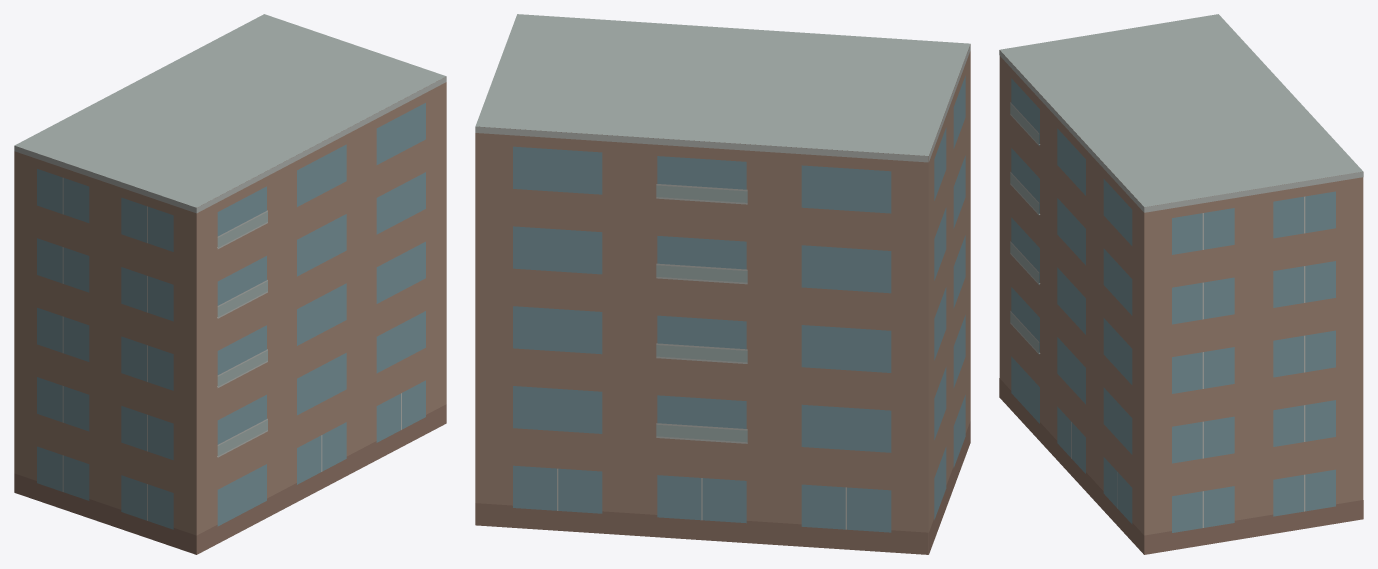
Rendered from survey-upis-32844772.glb.
3 views of the same model, side by side, from view 1: azimuth 30°, elevation 25°; view 2: azimuth 150°, elevation 25°; view 3: azimuth 270°, elevation 25° (orthographic). The views are drawn at different scales.
Visible parts, largest first — view 1: survey-upis-32844772.tmp; view 2: survey-upis-32844772.tmp; view 3: survey-upis-32844772.tmp.
Part boxes in pixels (<box>): survey-upis-32844772.tmp: <box>14,14,446,554</box>; survey-upis-32844772.tmp: <box>475,14,970,554</box>; survey-upis-32844772.tmp: <box>999,14,1363,554</box>.
Bounding box in the file's own units: 18 × 15.1 × 14.33.
